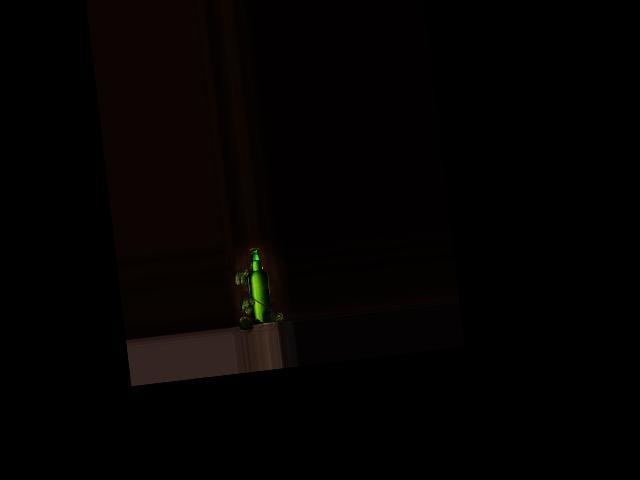beer: (245, 246, 274, 325)
